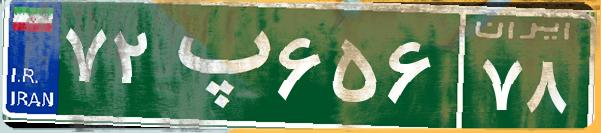2: (110, 28, 158, 105)
5: (330, 28, 385, 110)
6: (385, 28, 445, 110), (273, 28, 330, 110)
7: (57, 26, 110, 107), (475, 38, 525, 113)
8: (525, 38, 570, 115)
پ: (158, 15, 273, 115)
